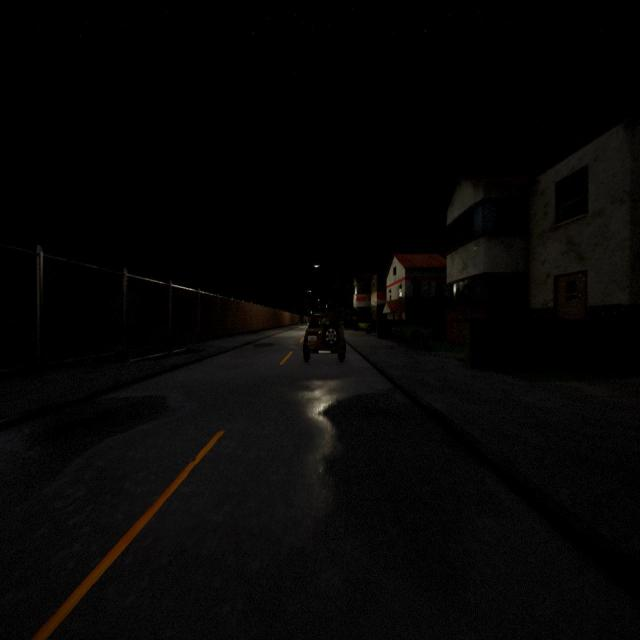Vehicle: (303, 314, 345, 362)
